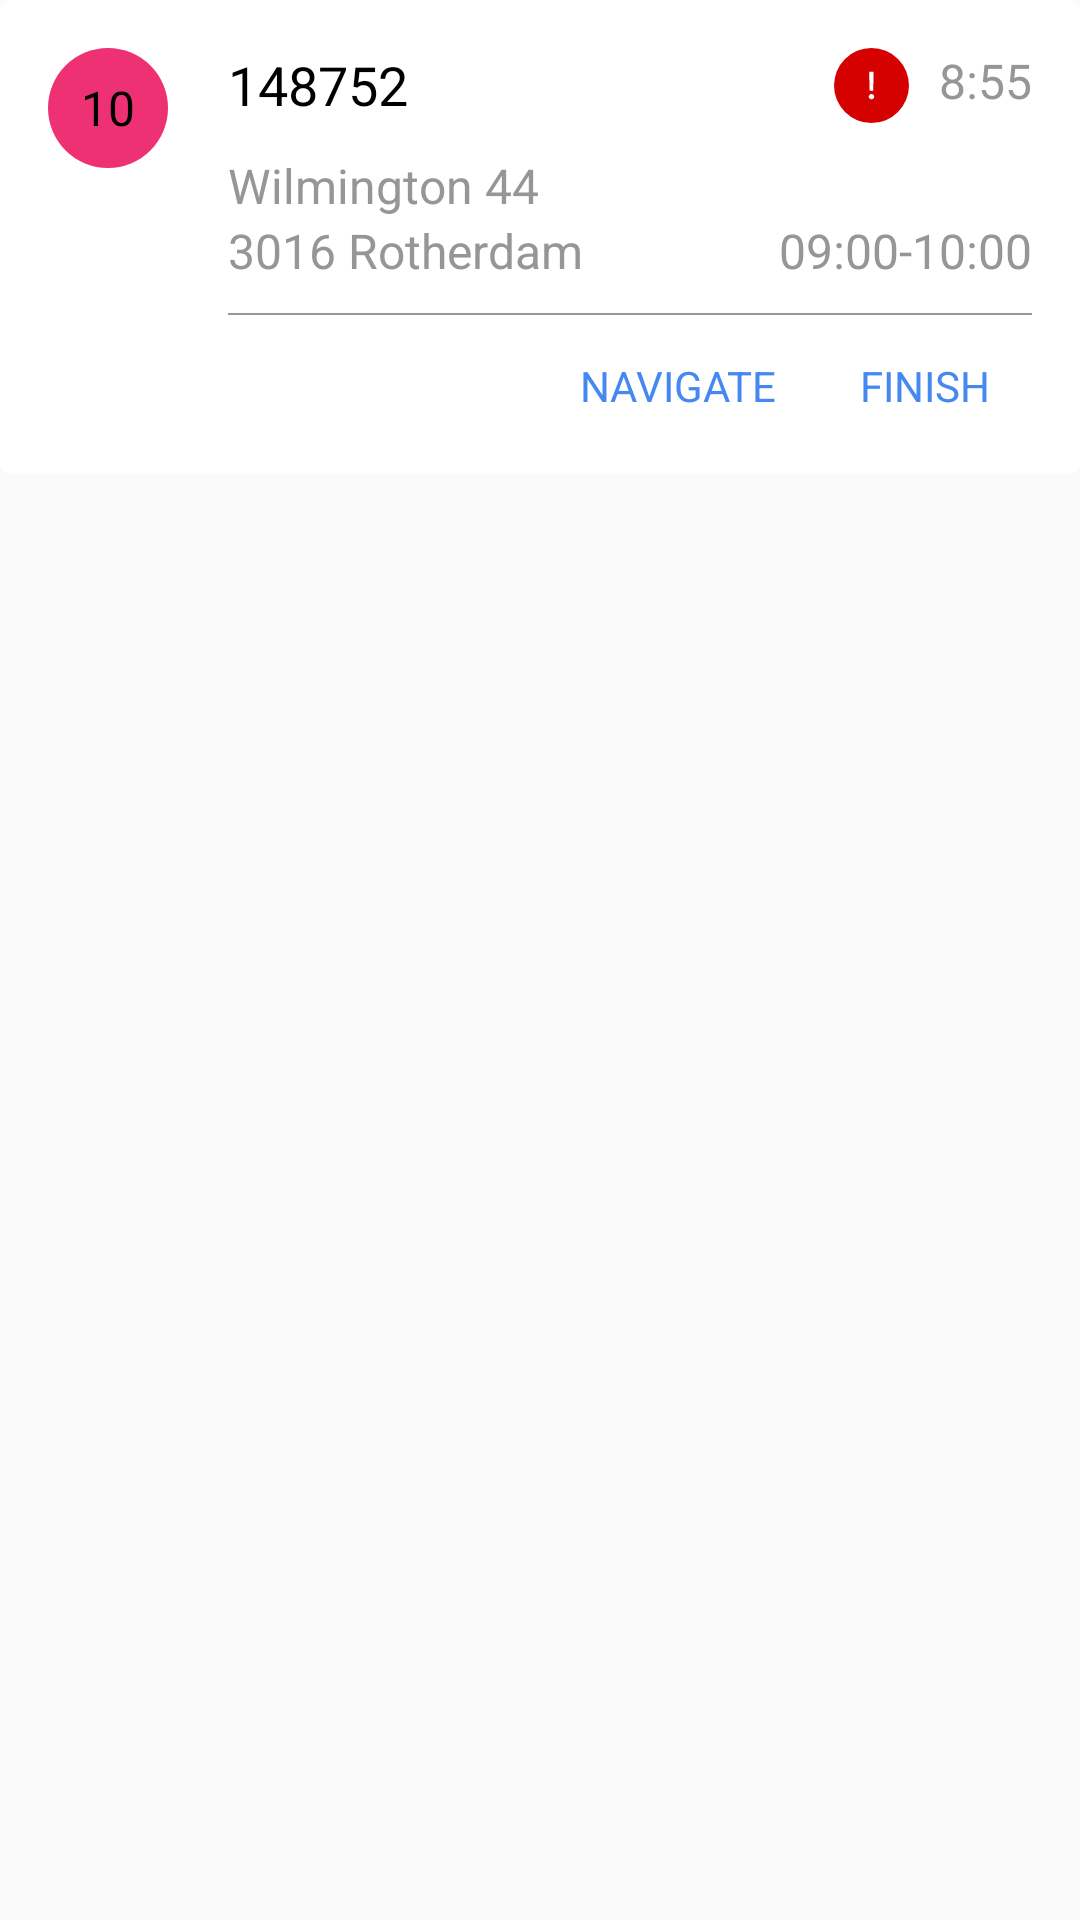

Screen size 1080x1920. Icon name, then its center in pixels as [x,y]:
issue: [871,85]
